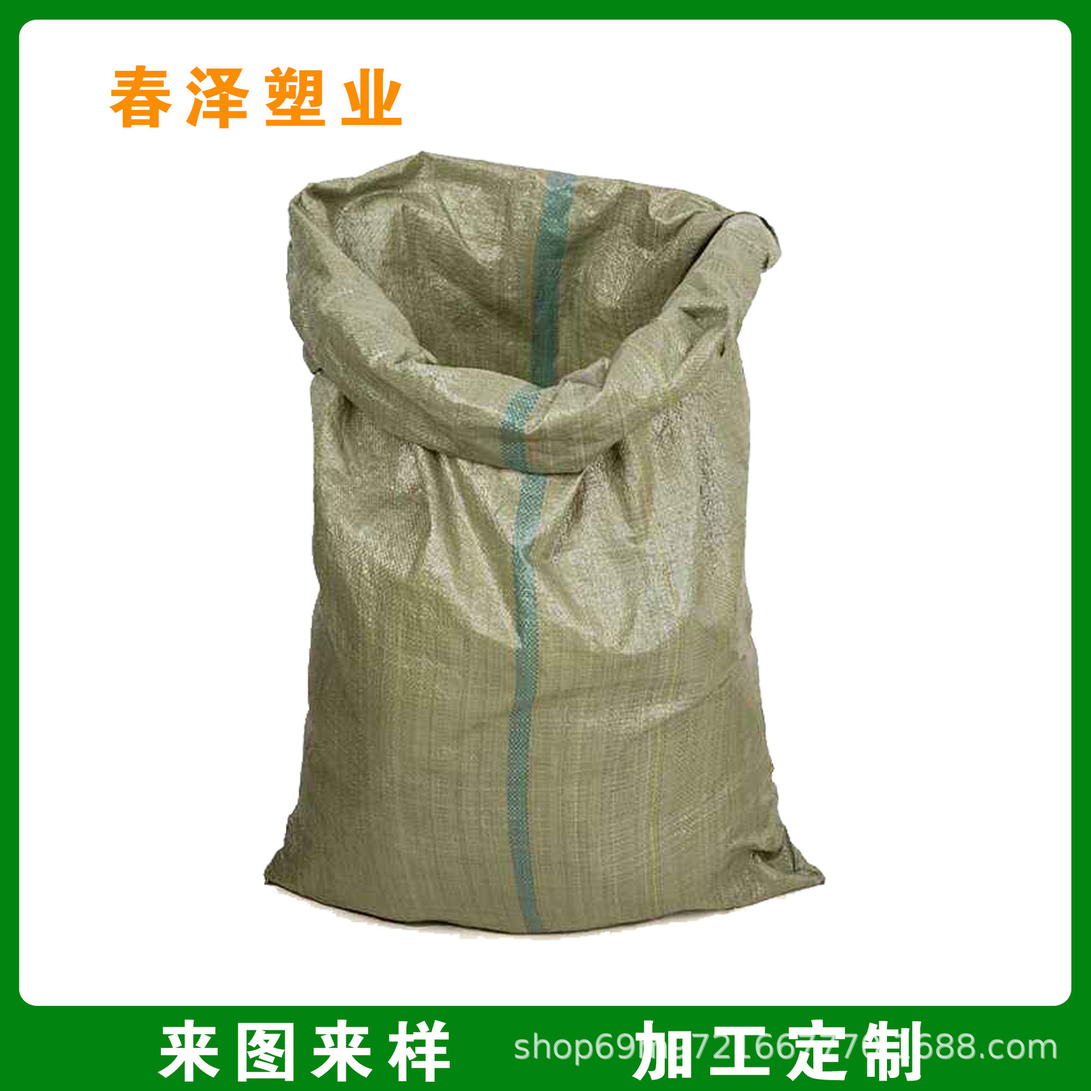塑料袋: (265, 153, 823, 933)
